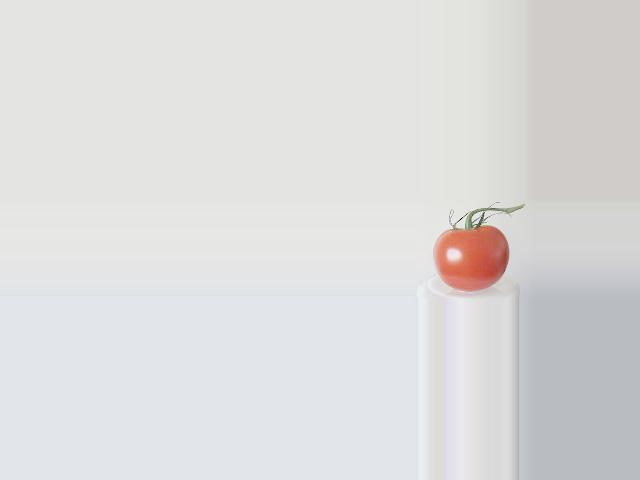tomato: (433, 225, 510, 291)
